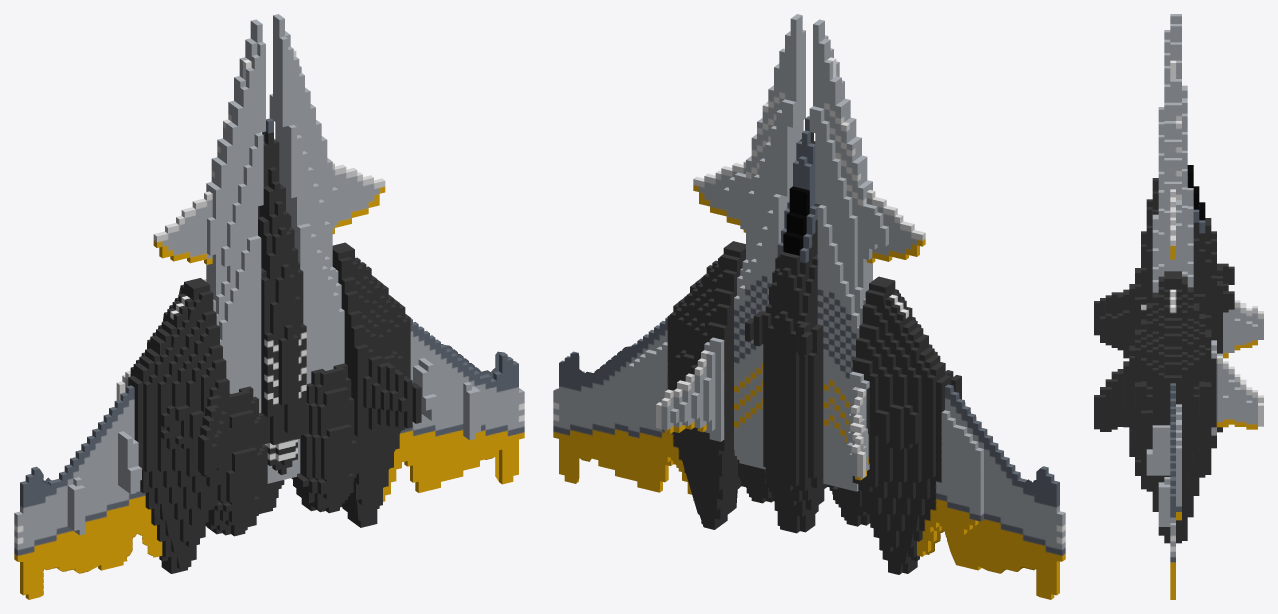
The model's file is Spaceships_4.fbx.
3 views of the same model, side by side, from view 1: azimuth 30°, elevation 25°; view 2: azimuth 150°, elevation 25°; view 3: azimuth 270°, elevation 25° (orthographic). The views are drawn at different scales.
Parts seen in each view (by area): view 1: Spaceships_4; view 2: Spaceships_4; view 3: Spaceships_4.
Boxes of the visible parts, x1=… form: Spaceships_4: x1=14, y1=14, x2=524, y2=599; Spaceships_4: x1=553, y1=14, x2=1065, y2=599; Spaceships_4: x1=1094, y1=14, x2=1263, y2=599.
Bounding box in the file's own units: 910 × 900 × 290.
